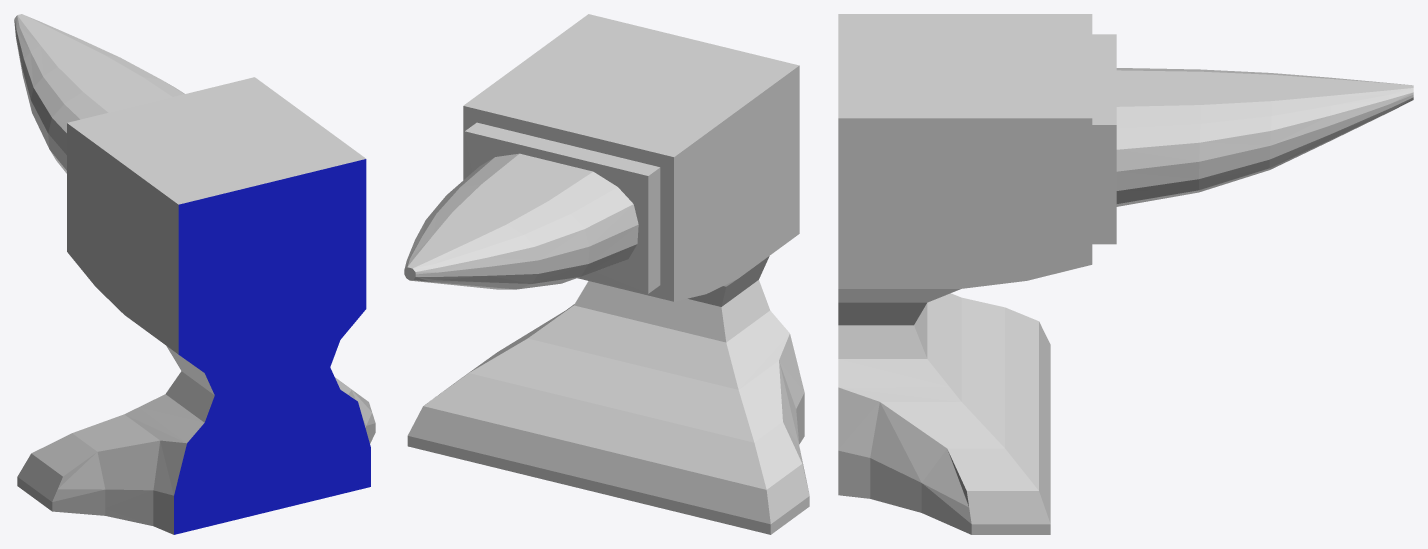
File: Anvil_low_2.fbx
3 views of the same model, side by side, from view 1: azimuth 30°, elevation 25°; view 2: azimuth 150°, elevation 25°; view 3: azimuth 270°, elevation 25° (orthographic). The views are drawn at different scales.
Visible parts, largest first — view 1: Anvil_low.001; view 2: Anvil_low.001; view 3: Anvil_low.001.
Part boxes in pixels (x1=…): Anvil_low.001: x1=14, y1=14, x2=375, y2=534; Anvil_low.001: x1=404, y1=14, x2=809, y2=534; Anvil_low.001: x1=838, y1=14, x2=1413, y2=534.
Size of the model in its own units: 1.75 by 1.72 by 2.37.
